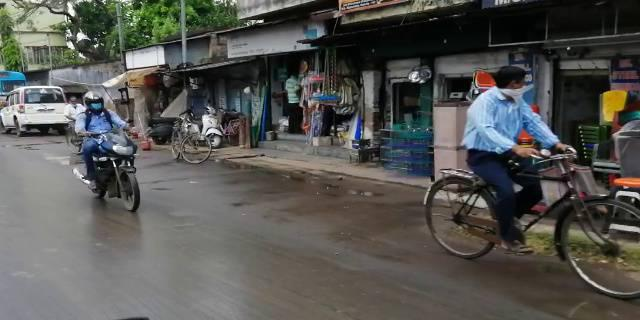Car: (1, 88, 65, 136)
Cycle: (414, 66, 636, 292), (165, 120, 216, 166)
Motorbike: (71, 94, 149, 210)
